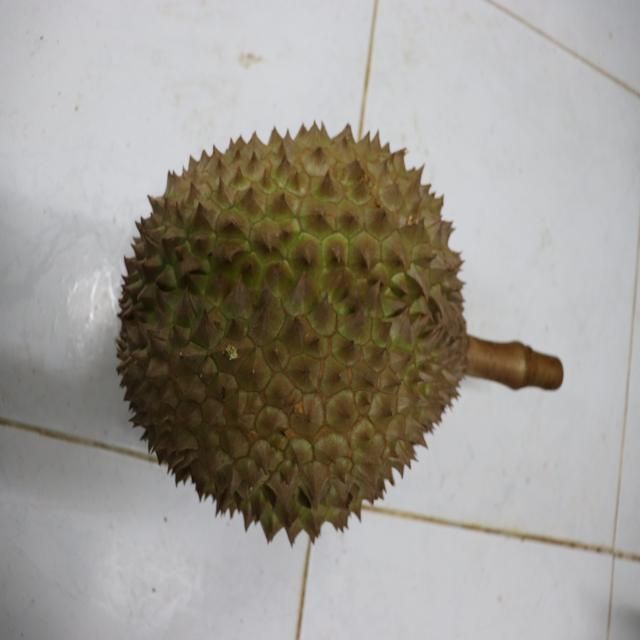mature: (111, 114, 470, 544)
